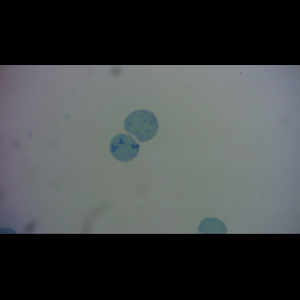aggregate reticulocyte: (108, 132, 141, 163)
punctate reticulocyte: (122, 108, 160, 143)
